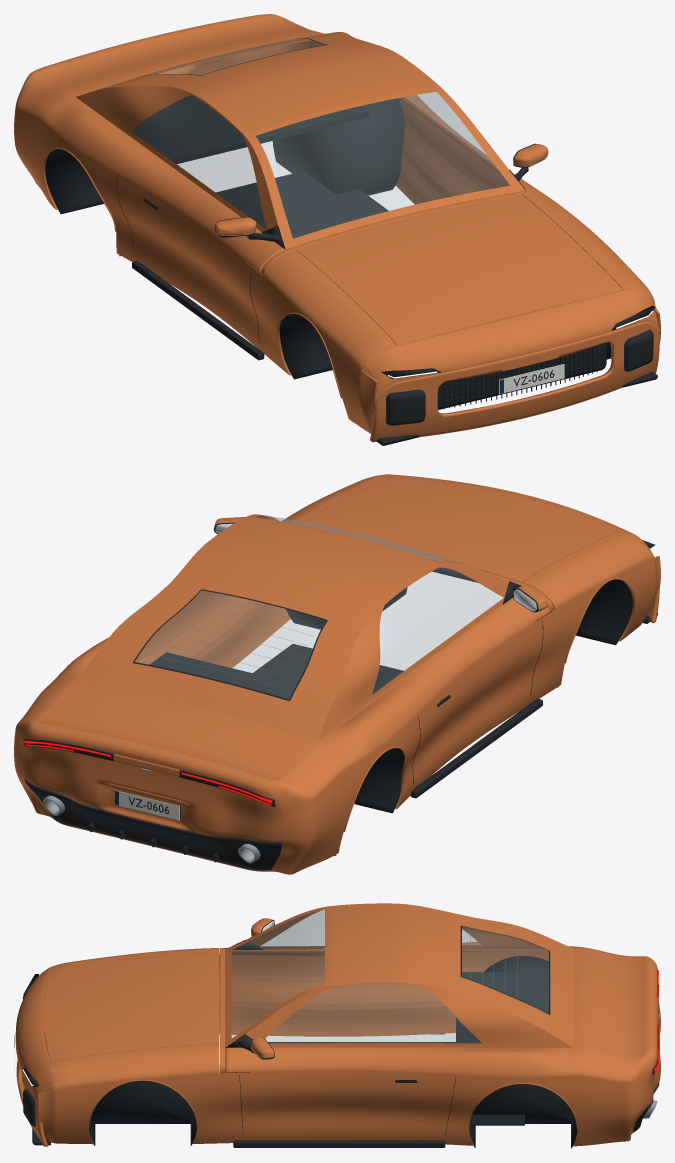
The model's file is solstice-lux-gt.glb.
3 views of the same model, one above another, from view 1: azimuth 30°, elevation 25°; view 2: azimuth 150°, elevation 25°; view 3: azimuth 270°, elevation 25° (orthographic). The views are drawn at different scales.
Visible parts, largest first — view 1: Driver_hood, Window windscreen, Driver_front_structure, Body side left, Window left, Unified canopy roof, Rear deck, Wheelhouse felt Cabin lining, Front bumper, Canopy sill left, Body side right, Rear parcel shelf (+16 smaller); view 2: Window rear, Driver_hood, Rear deck, Body side left, Rear bumper, Unified canopy roof, Window left, Canopy sill left, Body side right, Driver_front_structure, Rear graphite valance, Driver front side left (+11 smaller); view 3: Body side right, Driver_hood, Window right, Body side left, Window rear, Rear deck, Window windscreen, Unified canopy roof, Driver_front_structure, Canopy sill right, Driver front side right, Wheelhouse inner wall Cabin lining (+15 smaller).
Boxes of the visible parts, <box> form: Driver_hood: <box>296,194,622,345</box>; Window windscreen: <box>244,86,525,249</box>; Driver_front_structure: <box>263,193,659,401</box>; Body side left: <box>14,107,258,348</box>; Window left: <box>76,86,285,248</box>; Unified canopy roof: <box>179,42,439,134</box>; Rear deck: <box>15,14,324,122</box>; Wheelhouse felt Cabin lining: <box>45,98,611,379</box>; Front bumper: <box>369,322,659,442</box>; Canopy sill left: <box>44,97,265,262</box>; Body side right: <box>288,40,510,204</box>; Rear parcel shelf: <box>132,95,368,163</box>; Window rear: <box>76,573,368,740</box>; Driver_hood: <box>300,475,622,582</box>; Rear deck: <box>15,681,349,802</box>; Body side left: <box>271,622,536,874</box>; Rear bumper: <box>20,726,288,871</box>; Unified canopy roof: <box>179,518,439,619</box>; Window left: <box>319,563,508,739</box>; Canopy sill left: <box>319,598,535,765</box>; Body side right: <box>14,590,260,817</box>; Driver_front_structure: <box>282,474,654,609</box>; Rear graphite valance: <box>24,779,282,870</box>; Driver front side left: <box>523,556,660,708</box>; Body side right: <box>250,1071,649,1146</box>; Driver_hood: <box>43,952,219,1062</box>; Window right: <box>225,982,572,1047</box>; Body side left: <box>250,951,548,1036</box>; Window rear: <box>445,911,573,1047</box>; Rear deck: <box>573,946,653,1082</box>; Window windscreen: <box>225,906,331,1046</box>; Unified canopy roof: <box>331,903,445,988</box>; Driver_front_structure: <box>15,948,219,1110</box>; Canopy sill right: <box>250,1047,573,1077</box>; Driver front side right: <box>37,1072,249,1144</box>; Wheelhouse inner wall Cabin lining: <box>91,1081,574,1123</box>.
Size of the model in its own units: 2.3 by 1.22 by 4.64.
